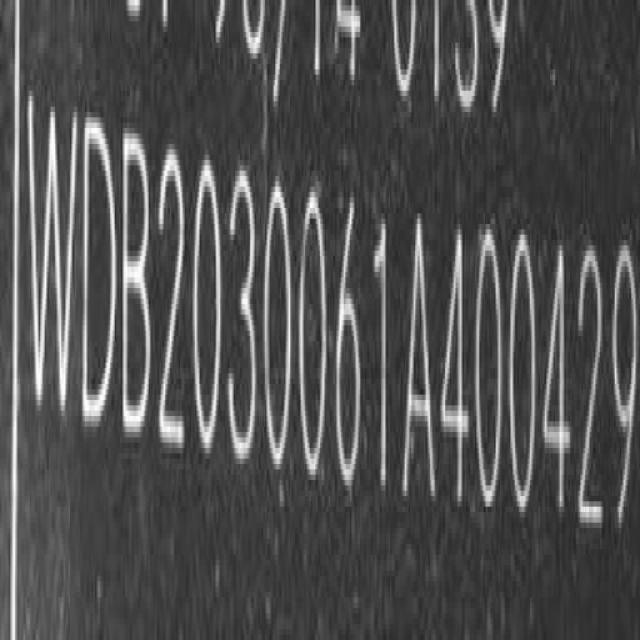0: (194, 154, 225, 469), (299, 188, 331, 492), (263, 179, 294, 484), (509, 226, 539, 528), (474, 224, 502, 525)
1: (372, 205, 392, 506)
2: (158, 141, 189, 461), (576, 238, 606, 540)
3: (227, 164, 258, 476)
4: (439, 214, 469, 516), (544, 238, 573, 540)
6: (336, 199, 367, 498)
9: (611, 234, 640, 538)
A: (402, 213, 436, 513)
B: (121, 124, 154, 446)
D: (84, 110, 120, 438)
W: (27, 95, 75, 436)
